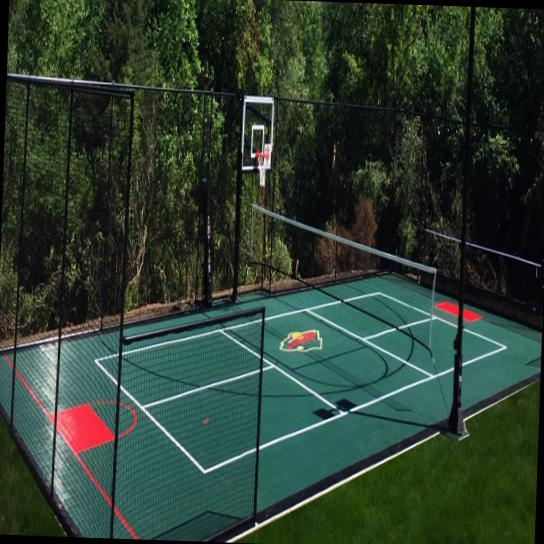basketball-hoop: (256, 151, 270, 188)
